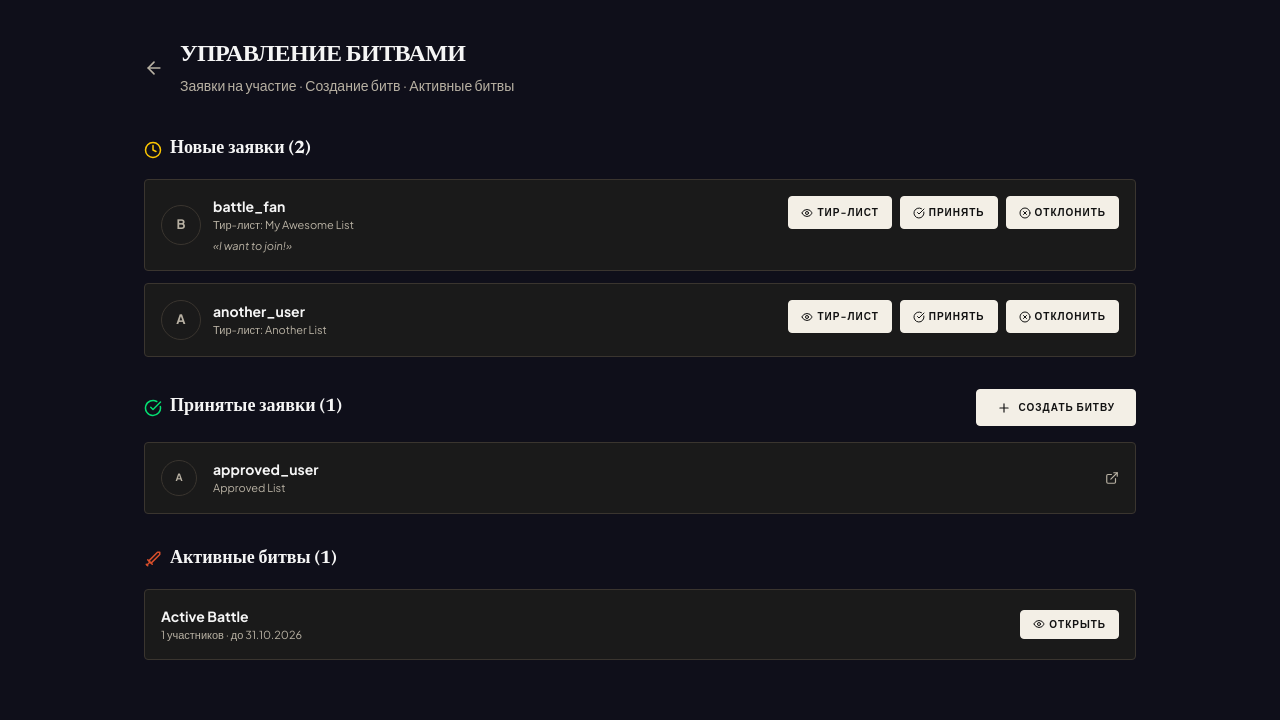
Test: AdminBattlesPage › должен открывать модалку создания битвы
Expected: the heading "Принятые заявки (1)" is shown, [144, 394, 342, 421]
Click the button "Создать битву" at {"x": 1056, "y": 408}, box [976, 389, 1136, 426]
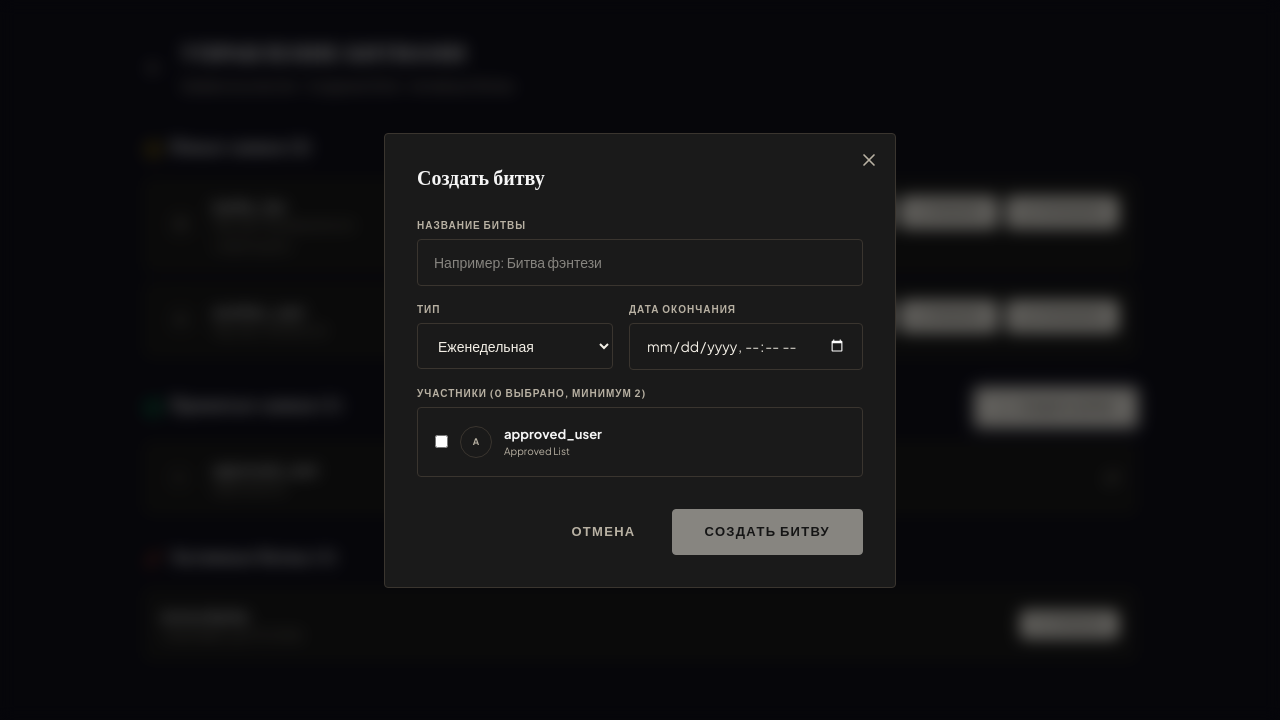
Expected: the heading "Создать битву" is shown, [417, 170, 545, 190]
